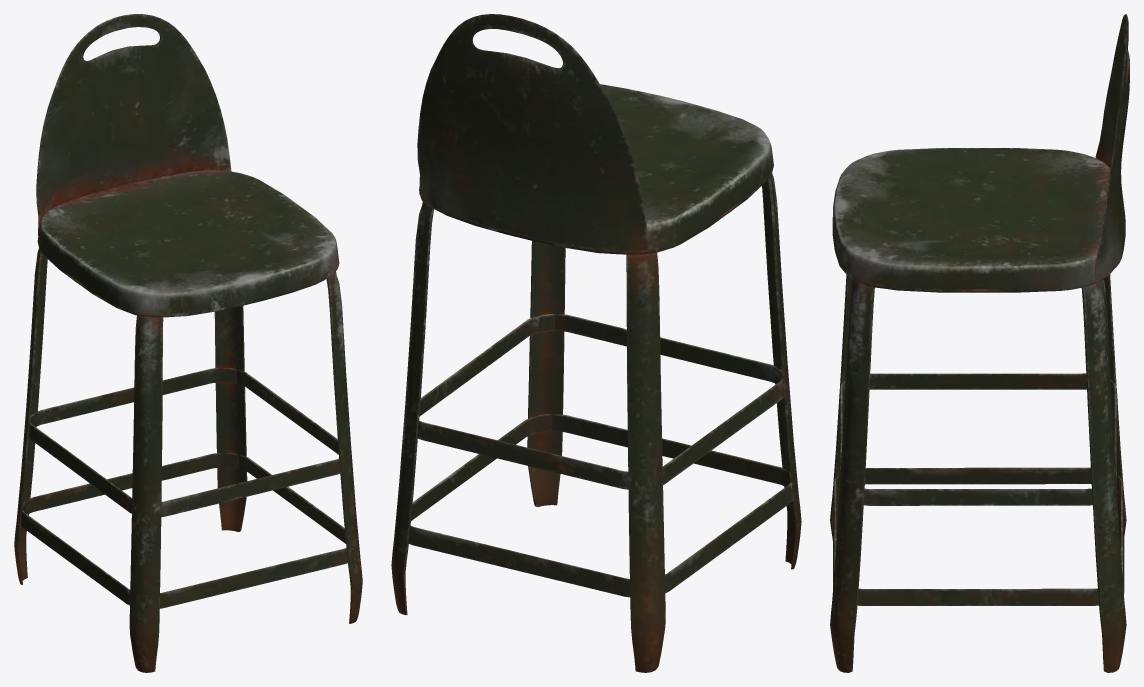
Rendered from metal_stool_03.glb.
The picture shows the model from 3 angles, left to right: view 1: azimuth 30°, elevation 25°; view 2: azimuth 150°, elevation 25°; view 3: azimuth 270°, elevation 25°; orthographic projection. The views are drawn at different scales.
Visible parts, largest first — view 1: metal_stool_03; view 2: metal_stool_03; view 3: metal_stool_03.
Part boxes in pixels (x1,y1,x2,y2): metal_stool_03: [14, 14, 362, 672]; metal_stool_03: [391, 14, 801, 672]; metal_stool_03: [830, 14, 1129, 672].
Bounding box in the file's own units: 0.4606 × 1.02 × 0.4706.
Materials: 1 (1 with a texture image).
